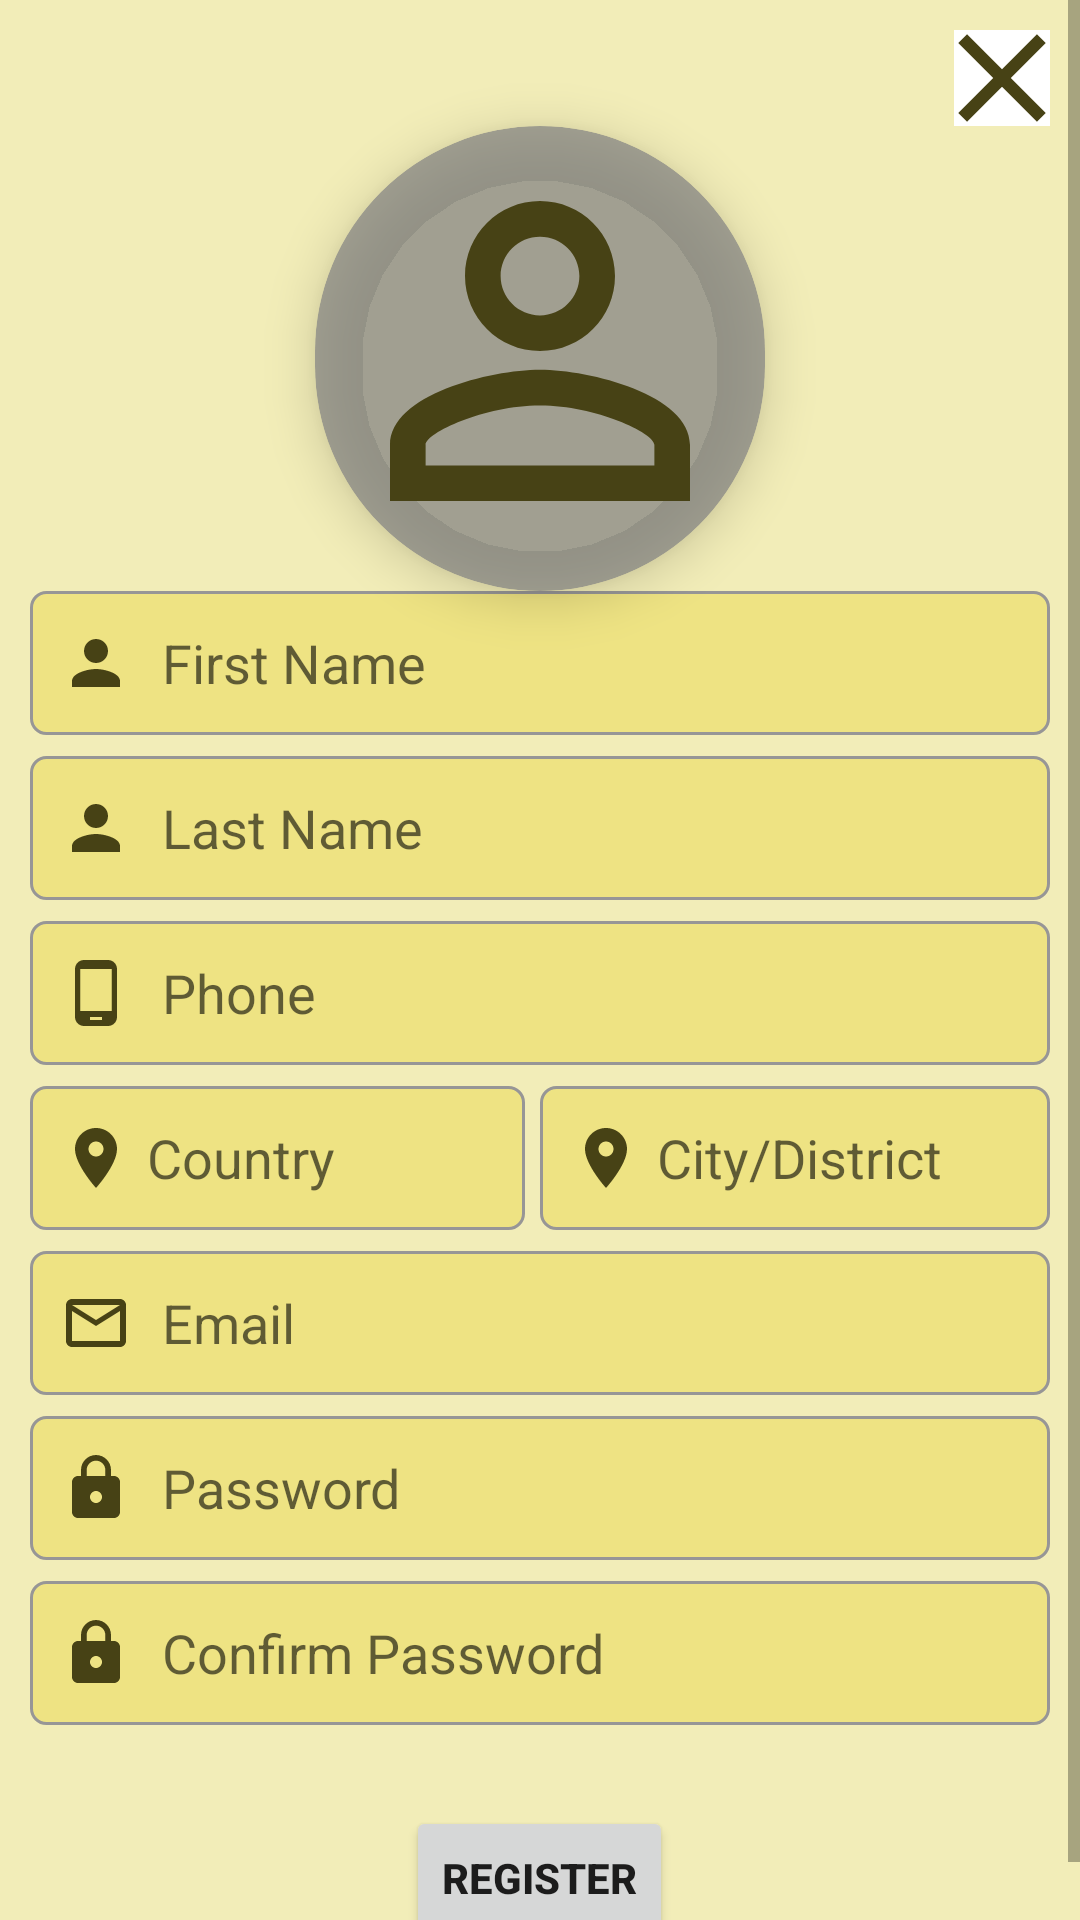

Named icons in this screenshot (1080x1920) and their bounding boxes, (x1, y1, x2, y2):
close: (954, 30, 1050, 126)
